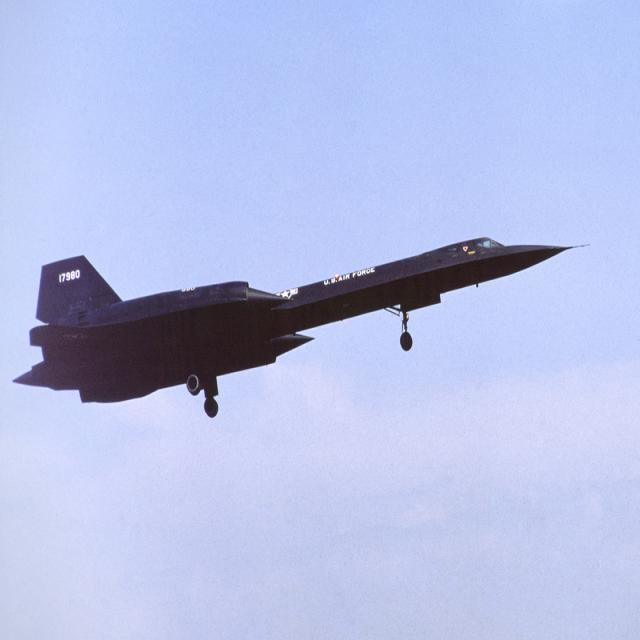MIL_Plane: (12, 235, 592, 420)
